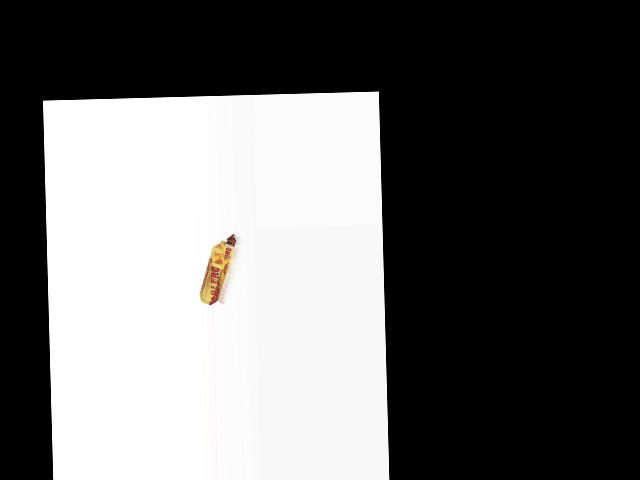chocolate: (197, 233, 240, 305)
